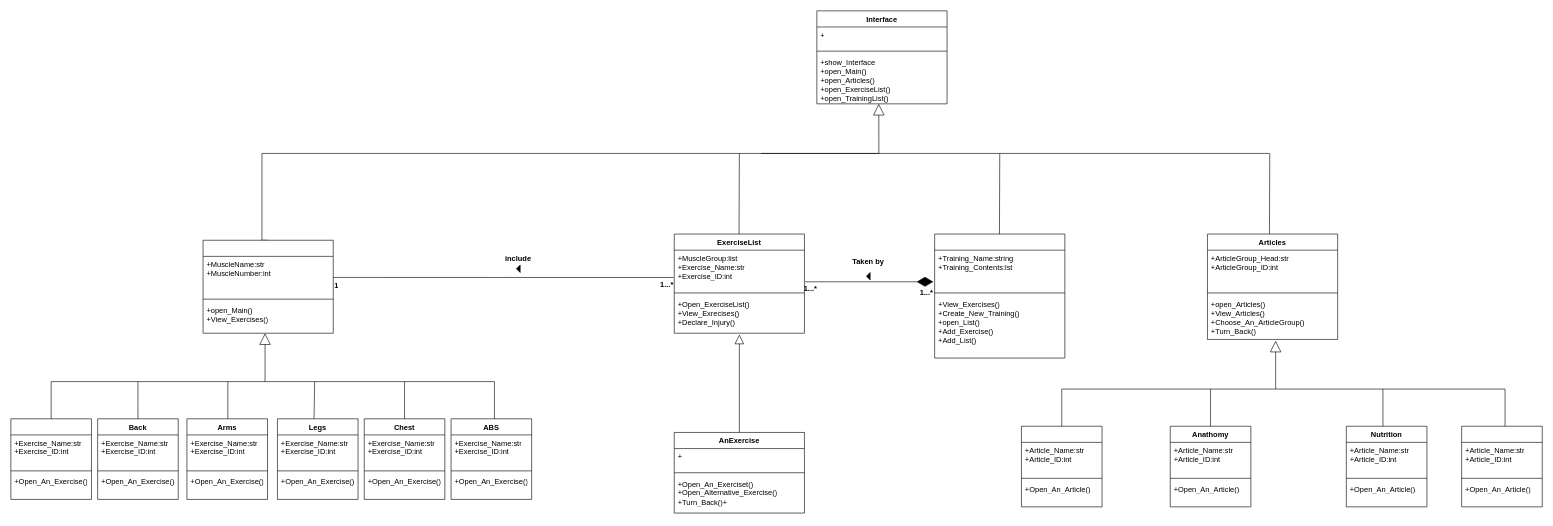
The diagram is 1553 pixels wide and 526 high, and some of its shapes have lost their labels. The shapes that lost their labels are listed below. From the top down, each one's box as (x1, y1, x2, y2) in pixels, then its label:
(202, 240, 333, 333): Muscles
(934, 233, 1065, 358): TrainingList
(10, 418, 91, 499): Shoulder
(1021, 426, 1102, 507): Ergocenic Supporters
(1461, 426, 1542, 507): Sport
